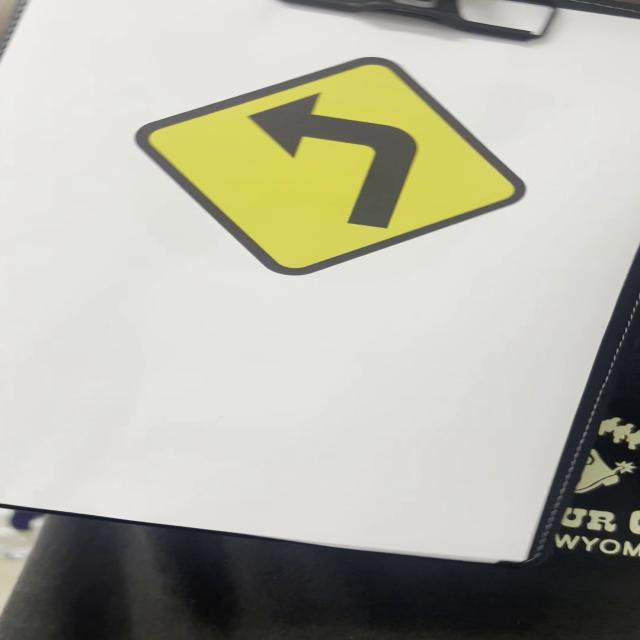left: (144, 53, 535, 275)
